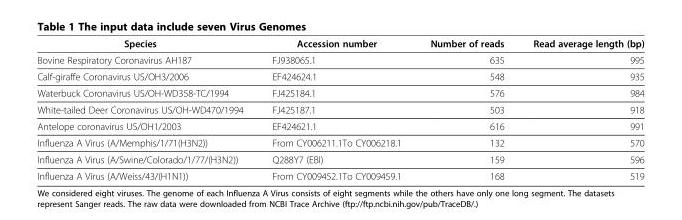table: (36, 37, 643, 181)
table column: (36, 37, 257, 181), (257, 37, 415, 181), (518, 37, 643, 181), (415, 37, 518, 181)
table column header: (36, 37, 643, 51)
table row: (36, 67, 643, 84), (36, 84, 643, 101), (36, 117, 643, 134), (36, 150, 643, 167), (36, 51, 643, 67), (36, 101, 643, 117), (36, 134, 643, 150), (36, 37, 643, 51), (36, 167, 643, 181)
